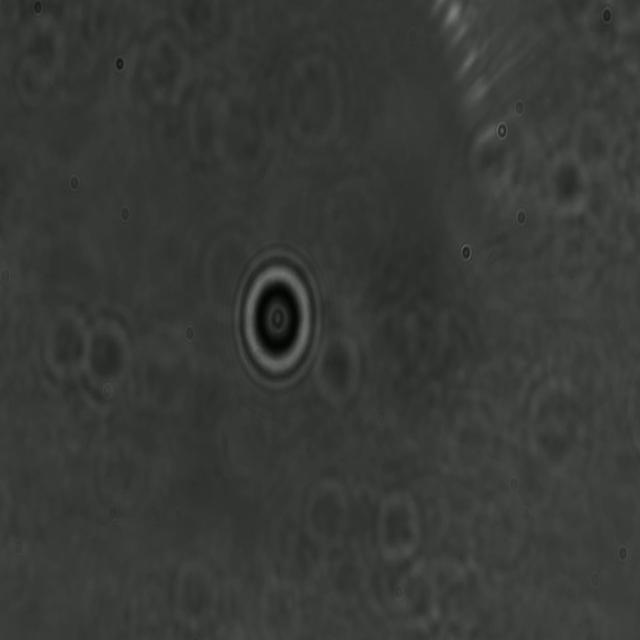LCELL: (231, 250, 324, 394)
